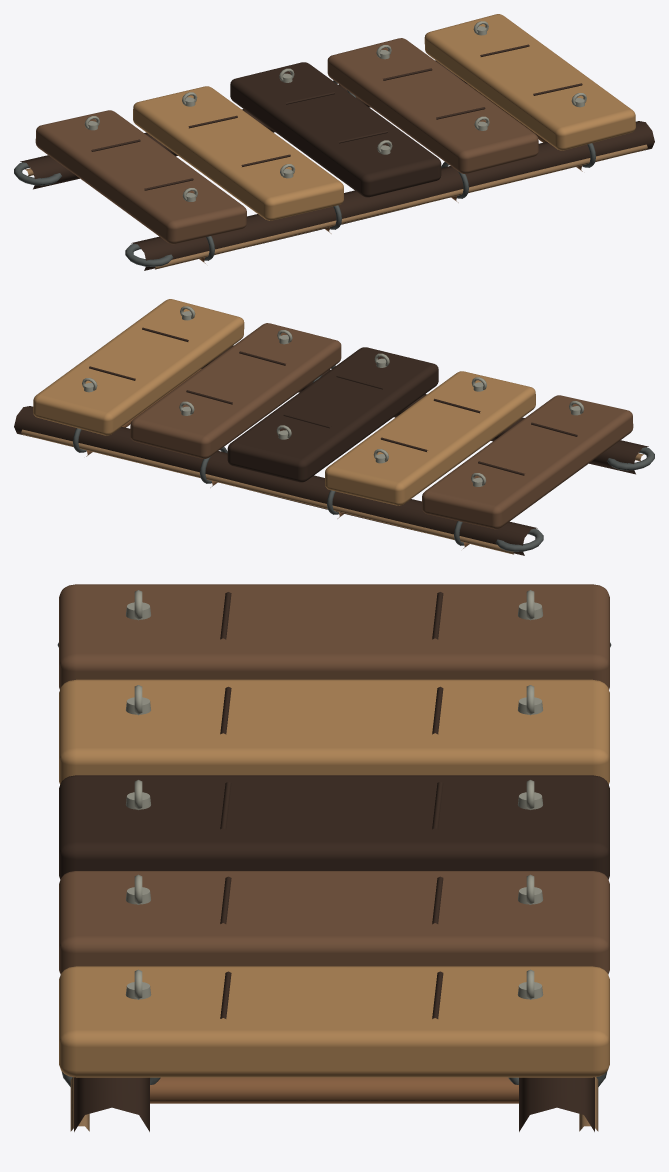
File: extra_swamp_boardwalk.glb
The picture shows the model from 3 angles, top to bottom: view 1: azimuth 30°, elevation 25°; view 2: azimuth 150°, elevation 25°; view 3: azimuth 270°, elevation 25°; orthographic projection. The views are drawn at different scales.
Parts seen in each view (by area): view 1: wood, metal, cloth; view 2: wood, metal, cloth; view 3: wood, metal.
Boxes of the visible parts, left/top/right/bottom form: wood: left=20, top=14, right=654, bottom=270; metal: left=14, top=21, right=595, bottom=266; cloth: left=25, top=144, right=647, bottom=269; wood: left=14, top=299, right=648, bottom=555; metal: left=73, top=306, right=654, bottom=551; cloth: left=21, top=429, right=643, bottom=554; wood: left=59, top=584, right=609, bottom=1131; metal: left=57, top=590, right=611, bottom=1086.
Bounding box in the file's own units: 2.8 × 0.35 × 1.3.
